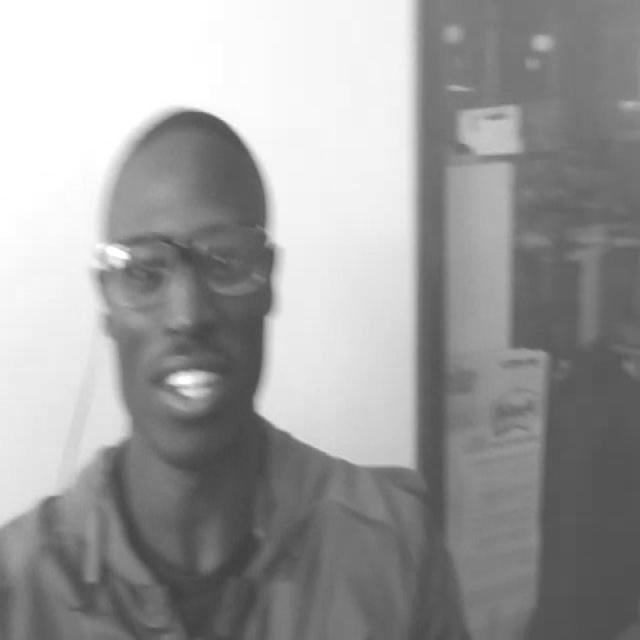real: (92, 108, 276, 476)
